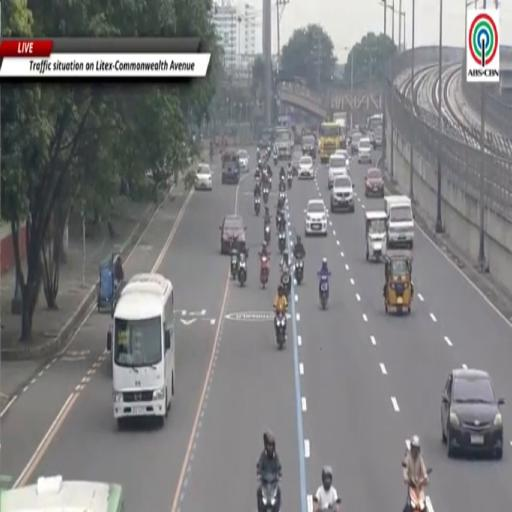bus: (107, 274, 175, 428), (0, 476, 124, 511), (319, 122, 341, 163), (367, 115, 383, 132)
car: (441, 368, 504, 458), (220, 215, 245, 253), (331, 176, 354, 213), (304, 200, 327, 236), (328, 155, 348, 188), (364, 168, 384, 197), (195, 164, 212, 190), (302, 134, 317, 159), (334, 150, 350, 173), (298, 156, 314, 179), (358, 138, 372, 163), (222, 166, 239, 184), (222, 151, 238, 169), (351, 132, 362, 154), (238, 150, 248, 172), (373, 127, 382, 149), (334, 150, 350, 162)
motorcycle: (258, 473, 279, 511), (408, 483, 428, 511), (275, 312, 286, 349), (319, 275, 329, 309), (260, 254, 269, 289), (281, 268, 291, 298), (238, 253, 247, 286), (294, 258, 304, 285), (322, 499, 341, 511), (231, 248, 238, 279), (276, 209, 284, 229), (278, 231, 285, 253), (277, 216, 285, 232), (264, 224, 270, 244), (262, 187, 269, 204), (254, 197, 260, 215), (279, 191, 285, 203), (267, 175, 272, 189), (273, 153, 278, 165), (288, 174, 292, 188), (256, 147, 260, 161), (292, 166, 297, 175)
truck: (274, 127, 294, 159), (333, 111, 347, 148), (333, 111, 347, 129)
